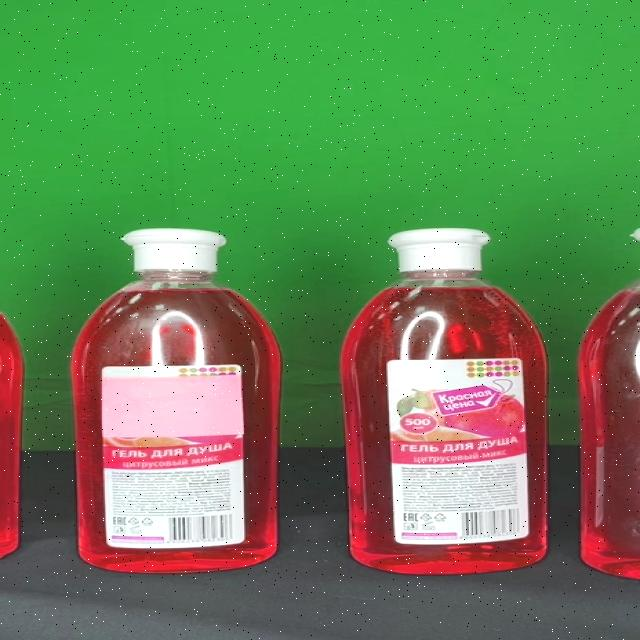Bottle: (70, 229, 281, 574), (339, 228, 548, 574)
Cap: (120, 228, 224, 272), (386, 228, 490, 270)
